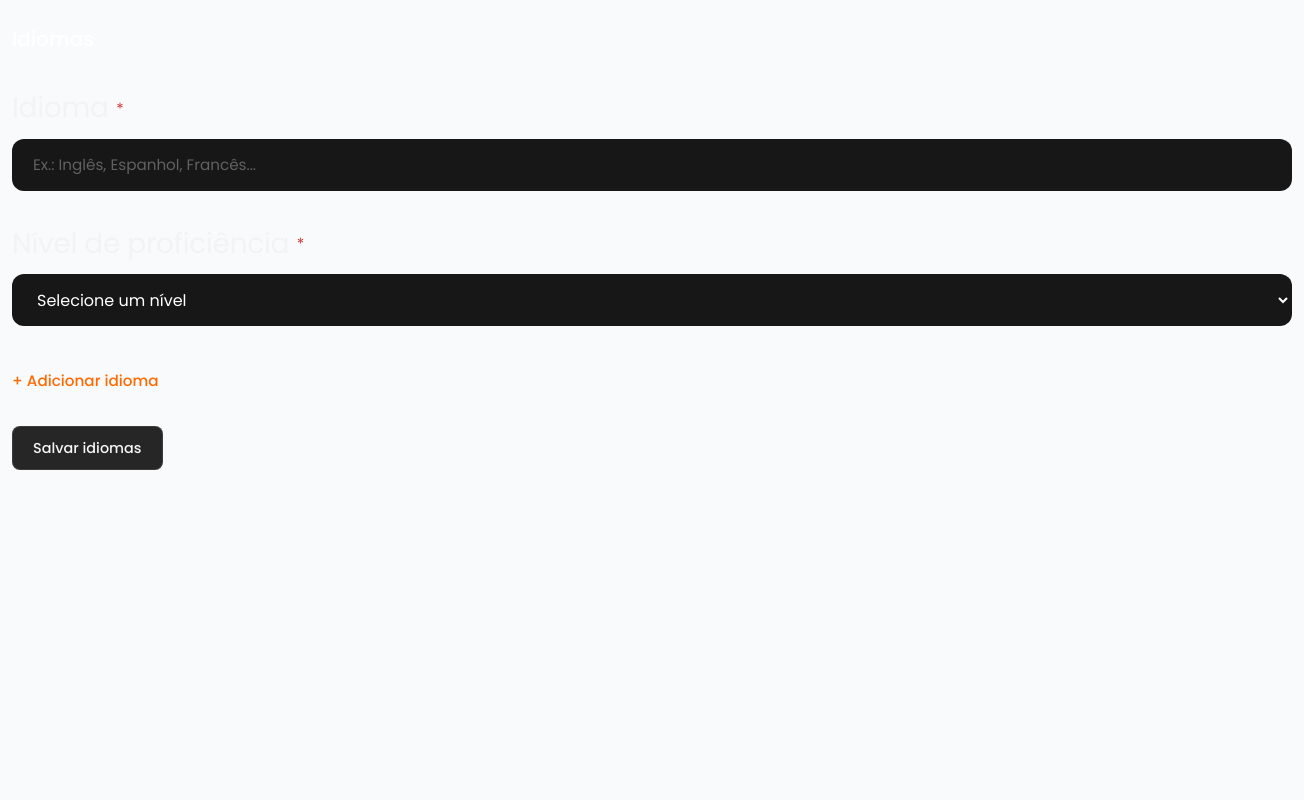
FormularioIdiomas › adiciona uma nova entrada de idioma ao clicar no botão
The image size is (1304, 800).
Click the button "+ Adicionar idioma" at (85, 380), box [12,358,158,402]
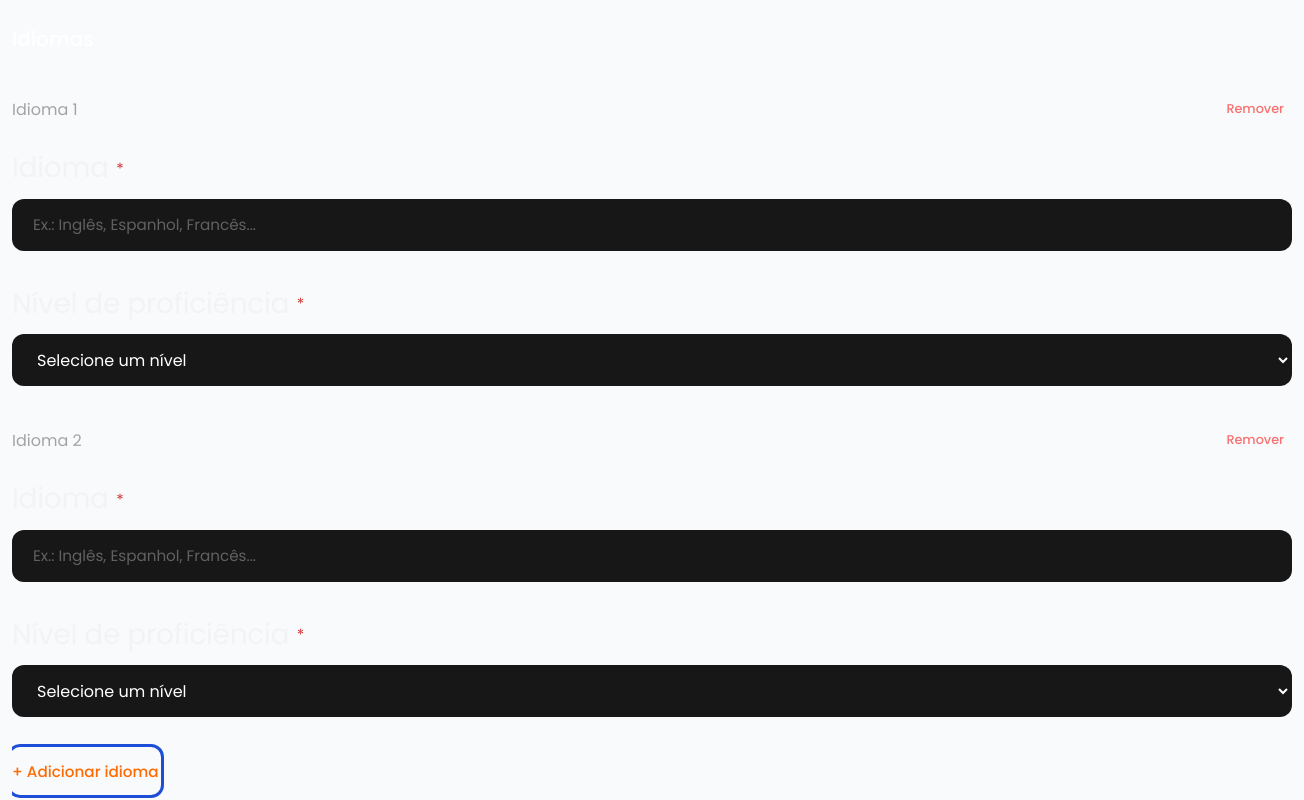
Expected: the number of fields labelled "Idioma" is 2, [12,199,1292,251]; [12,530,1292,582]
